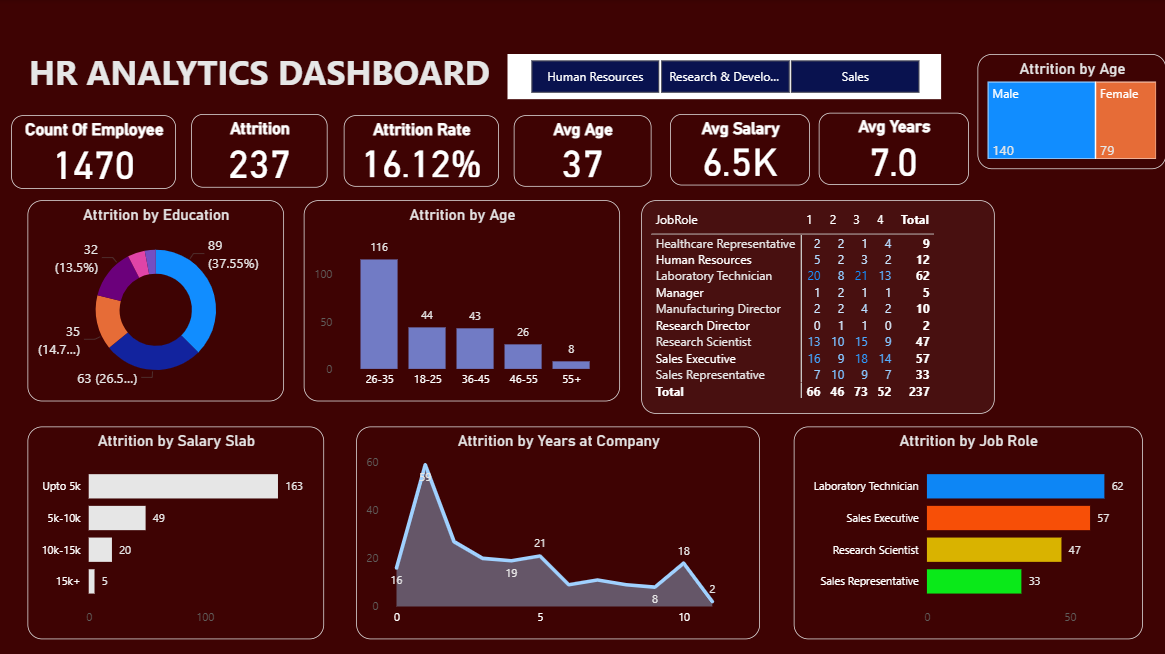

This screenshot's page, from the dashboard's own definition file:
{"tool":"powerbi","page":{"name":"Page 1","canvas":[1280,720],"ordinal":0},"visuals":[{"type":"card","title":"Count Of Employee","fields":{"Values":["CountNonNull(HR_Analytics.EmpID)"]},"box":[12.3,127.6,181.1,81],"z":0},{"type":"card","title":"Attrition","fields":{"Values":["Sum(HR_Analytics.AttritionCount)"]},"box":[209.9,126.2,149.6,81],"z":1000},{"type":"card","title":"Avg Age","fields":{"Values":["Avg(HR_Analytics.Age)"]},"box":[564,127.6,150.9,78.2],"z":2000},{"type":"card","title":"Attrition Rate","fields":{"Values":["HR_Analytics.AttritionRate"]},"box":[377.4,127.6,170.2,78.2],"z":3000},{"type":"card","title":"Avg Salary","fields":{"Values":["Avg(HR_Analytics.MonthlyIncome)"]},"box":[735.5,126.2,153.7,78.2],"z":4000},{"type":"card","title":"Avg Years","fields":{"Values":["Avg(HR_Analytics.YearsAtCompany)"]},"box":[898.8,124.9,164.7,79.6],"z":5000},{"type":"donutChart","title":"Attrition by Education","fields":{"Category":["HR_Analytics.EducationField"],"Y":["Sum(HR_Analytics.AttritionCount)"]},"box":[30.2,220.9,281.3,220.9],"z":6000},{"type":"columnChart","title":"Attrition by Age","fields":{"Category":["HR_Analytics.AgeGroup"],"Y":["Sum(HR_Analytics.AttritionCount)"]},"box":[333.4,220.9,347.2,220.9],"z":7000},{"type":"pivotTable","fields":{"Rows":["HR_Analytics.JobRole"],"Columns":["HR_Analytics.JobSatisfaction"],"Values":["Sum(HR_Analytics.AttritionCount)"]},"box":[703.9,220.9,388.3,234.6],"z":8000},{"type":"clusteredBarChart","title":"Attrition by Salary Slab","fields":{"Category":["HR_Analytics.SalarySlab"],"Y":["Sum(HR_Analytics.AttritionCount)"]},"box":[30.2,469.3,325.2,233.3],"z":9000},{"type":"clusteredBarChart","title":"Attrition by Job Role","fields":{"Category":["HR_Analytics.JobRole"],"Y":["Sum(HR_Analytics.AttritionCount)"]},"box":[871.4,469.3,382.8,233.3],"z":10000},{"type":"areaChart","title":"Attrition by Years at Company","fields":{"Category":["HR_Analytics.YearsAtCompany"],"Y":["Sum(HR_Analytics.AttritionCount)"]},"box":[391.1,469.3,443.2,233.3],"z":11000},{"type":"treemap","title":"Attrition by Age","fields":{"Group":["HR_Analytics.Gender"],"Values":["Sum(HR_Analytics.AttritionCount)"]},"box":[1073.1,60.4,207.2,126.2],"z":12000},{"type":"slicer","fields":{"Values":["HR_Analytics.Department"]},"box":[557.1,60.4,476.2,49.4],"z":13000},{"type":"textbox","box":[12.3,49.4,544.8,60.4],"z":14000}]}

Visuals, with their boxes in screenshot pixels (x1, y1, x2, y2), scaled from the page's 1280x720 canvas onto the 1165x654 screenshot:
"Count Of Employee" card: [11, 116, 176, 189]
"Attrition" card: [191, 115, 327, 188]
"Avg Age" card: [513, 116, 651, 187]
"Attrition Rate" card: [343, 116, 498, 187]
"Avg Salary" card: [669, 115, 809, 186]
"Avg Years" card: [818, 113, 968, 186]
"Attrition by Education" donutChart: [27, 201, 284, 401]
"Attrition by Age" columnChart: [303, 201, 619, 401]
pivotTable - HR_Analytics.JobRole x HR_Analytics.JobSatisfaction: [641, 201, 994, 414]
"Attrition by Salary Slab" clusteredBarChart: [27, 426, 323, 638]
"Attrition by Job Role" clusteredBarChart: [793, 426, 1142, 638]
"Attrition by Years at Company" areaChart: [356, 426, 759, 638]
"Attrition by Age" treemap: [977, 55, 1164, 169]
slicer - HR_Analytics.Department: [507, 55, 940, 100]
textbox: [11, 45, 507, 100]
